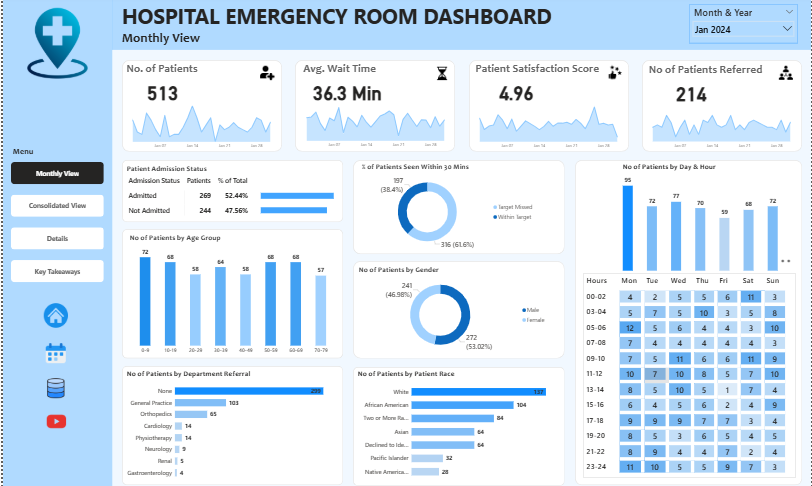

The dashboard page shown, as its layout file describes it:
{"tool":"powerbi","page":{"name":"Monthly View","canvas":[2300,1400],"ordinal":0},"visuals":[{"type":"shape","box":[338.5,171.3,455.5,261.2],"z":0},{"type":"shape","box":[1324.7,171.3,455.5,261.2],"z":1000},{"type":"shape","box":[0,0,311.3,1399.9],"z":2000},{"type":"shape","box":[831.6,171.3,455.5,261.2],"z":3000},{"type":"card","fields":{"Values":["Hospital ER_Hospital ER.No of Patients"]},"box":[374,225.7,160.9,66.9],"z":4000},{"type":"card","fields":{"Values":["Hospital ER_Hospital ER.Avg Wait Time"]},"box":[869.2,225.7,223.6,66.9],"z":5000},{"type":"card","fields":{"Values":["Avg(Hospital ER_Hospital ER.Patient Satisfaction Score)"]},"box":[1381.4,225.6,160.9,66.9],"z":6000},{"type":"shape","box":[1817.8,171.3,455.5,261.2],"z":7000},{"type":"card","fields":{"Values":["Hospital ER_Hospital ER.Measure"]},"box":[1876.7,227.6,160.9,66.9],"z":8000},{"type":"shape","box":[311.3,0,1989.1,142.1],"z":9000},{"type":"slicer","fields":{"Values":["Calendar Table.Month & Year"]},"box":[1950.8,12.2,309.8,112.1],"z":10000},{"type":"textbox","box":[339.2,171.3,227.8,56.5],"z":11000},{"type":"textbox","box":[841.3,171.3,231.1,56.5],"z":12000},{"type":"textbox","box":[1331.2,172,377.5,55.8],"z":13000},{"type":"textbox","box":[1828.2,173.4,344.8,56.4],"z":14000},{"type":"areaChart","fields":{"Category":["Calendar Table.Date.Variation.Date Hierarchy.Year","Calendar Table.Date.Variation.Date Hierarchy.Quarter","Calendar Table.Date.Variation.Date Hierarchy.Month","Calendar Table.Date.Variation.Date Hierarchy.Day"],"Y":["Hospital ER_Hospital ER.No of Patients"]},"box":[348.4,288.1,435.5,145.2],"z":15000},{"type":"areaChart","fields":{"Category":["Calendar Table.Date.Variation.Date Hierarchy.Year","Calendar Table.Date.Variation.Date Hierarchy.Quarter","Calendar Table.Date.Variation.Date Hierarchy.Month","Calendar Table.Date.Variation.Date Hierarchy.Day"],"Y":["Avg(Hospital ER_Hospital ER.Patient Waittime)"]},"box":[842.1,285.9,435.5,145.2],"z":16000},{"type":"areaChart","fields":{"Category":["Calendar Table.Date.Variation.Date Hierarchy.Year","Calendar Table.Date.Variation.Date Hierarchy.Quarter","Calendar Table.Date.Variation.Date Hierarchy.Month","Calendar Table.Date.Variation.Date Hierarchy.Day"],"Y":["Avg(Hospital ER_Hospital ER.Patient Satisfaction Score)"]},"box":[1333.4,290.4,435.5,142.9],"z":17000},{"type":"areaChart","fields":{"Category":["Calendar Table.Date.Variation.Date Hierarchy.Year","Calendar Table.Date.Variation.Date Hierarchy.Quarter","Calendar Table.Date.Variation.Date Hierarchy.Month","Calendar Table.Date.Variation.Date Hierarchy.Day"],"Y":["Hospital ER_Hospital ER.Measure"]},"box":[1827.1,288.1,435.5,145.2],"z":18000},{"type":"textbox","box":[331.7,0,1281,88.9],"z":19000},{"type":"image","box":[46.9,17.9,218.9,212.2],"z":20000},{"type":"image","box":[1222.3,183.9,52.2,48.1],"z":21000},{"type":"image","box":[724.8,183.1,52.8,51.2],"z":22000},{"type":"image","box":[2198,181.8,62.7,50],"z":23000},{"type":"image","box":[1713.3,179.7,58.5,52.2],"z":24000},{"type":"shape","box":[338.9,455,629.1,177.3],"z":25000},{"type":"shape","box":[994.7,455,602.5,268.3],"z":26000},{"type":"shape","box":[1626.9,455,646.4,925.6],"z":27000},{"type":"shape","box":[996.2,743.7,602.5,277.7],"z":28000},{"type":"donutChart","title":"% of Patients Seen Within 30 Mins","fields":{"Y":["Hospital ER_Hospital ER.No of Patients"],"Category":["Hospital ER_Hospital ER.Waittime Status"]},"box":[1016.6,461,504.4,257.6],"z":29000},{"type":"donutChart","title":"No of Patients by Gender","fields":{"Y":["Hospital ER_Hospital ER.No of Patients"],"Category":["Hospital ER_Hospital ER.Full Gender"]},"box":[1007.2,753.1,547.5,257.3],"z":30000},{"type":"shape","box":[338.9,652.7,629.1,368.7],"z":31000},{"type":"pivotTable","title":"Patient Admission Status","fields":{"Rows":["Hospital ER_Hospital ER.Admission Status"],"Values":["Hospital ER_Hospital ER.No of Patients1","Hospital ER_Hospital ER.No of Patients"]},"box":[347.9,465.5,610,158.3],"z":32000},{"type":"barChart","fields":{"Category":["Hospital ER_Hospital ER.Admission Status"],"Y":["Hospital ER_Hospital ER.No of Patients"]},"box":[729.5,514.6,241.6,120.8],"z":33000},{"type":"clusteredColumnChart","fields":{"Category":["Hospital ER_Hospital ER.Age Group"],"Y":["Hospital ER_Hospital ER.No of Patients"]},"box":[354.6,662.7,599.3,354.6],"z":34000},{"type":"shape","box":[337.3,1041.7,629.1,338.9],"z":35000},{"type":"clusteredBarChart","fields":{"Category":["Hospital ER_Hospital ER.Department Referral"],"Y":["Hospital ER_Hospital ER.No of Patients"]},"box":[348.3,1049.6,602.5,324.8],"z":36000},{"type":"shape","box":[996.5,1043,602.2,338.4],"z":37000},{"type":"clusteredBarChart","fields":{"Y":["Hospital ER_Hospital ER.No of Patients"],"Category":["Hospital ER_Hospital ER.Patient Race"]},"box":[1005.8,1049.2,578.9,324.4],"z":38000},{"type":"pivotTable","fields":{"Columns":["Calendar Table.Day Name"],"Rows":["Hospital ER_Hospital ER.Waittime Interval"],"Values":["Hospital ER_Hospital ER.No of Patients"]},"box":[1649.4,776.5,606.9,583.6],"z":39000},{"type":"clusteredColumnChart","title":"No of Patients by Day & Hour","fields":{"Category":["Calendar Table.Day Name"],"Y":["Hospital ER_Hospital ER.No of Patients"]},"box":[1758.7,461.3,453.4,315.3],"z":40000},{"type":"textbox","box":[333.7,79.2,411.3,59],"z":41000},{"type":"pageNavigator","box":[24.2,462.3,264.1,343.1],"z":42000},{"type":"textbox","box":[24.2,409.1,99.9,48.3],"z":43000},{"type":"image","box":[110.1,854.1,79.5,87.7],"z":47000},{"type":"image","box":[116.2,966.2,67.3,75.4],"z":48000},{"type":"image","box":[116.2,1068.1,67.3,75.4],"z":49000},{"type":"image","box":[118.2,1166,65.2,65.2],"z":50000}]}

Visuals, with their boxes in screenshot pixels (x1, y1, x2, y2), scaled from the page's 2300x1400 canvas onto the 812x486 screenshot:
shape: rect(120, 59, 280, 150)
shape: rect(468, 59, 628, 150)
shape: rect(0, 0, 110, 485)
shape: rect(294, 59, 454, 150)
card - Hospital ER_Hospital ER.No of Patients: rect(132, 78, 189, 102)
card - Hospital ER_Hospital ER.Avg Wait Time: rect(307, 78, 386, 102)
card - Avg(Hospital ER_Hospital ER.Patient Satisfaction Score): rect(488, 78, 544, 102)
shape: rect(642, 59, 803, 150)
card - Hospital ER_Hospital ER.Measure: rect(663, 79, 719, 102)
shape: rect(110, 0, 811, 49)
slicer - Calendar Table.Month & Year: rect(689, 4, 798, 43)
textbox: rect(120, 59, 200, 79)
textbox: rect(297, 59, 379, 79)
textbox: rect(470, 60, 603, 79)
textbox: rect(645, 60, 767, 80)
areaChart - Calendar Table.Date.Variation.Date Hierarchy.Year x Calendar Table.Date.Variation.Date Hierarchy.Quarter: rect(123, 100, 277, 150)
areaChart - Calendar Table.Date.Variation.Date Hierarchy.Year x Calendar Table.Date.Variation.Date Hierarchy.Quarter: rect(297, 99, 451, 150)
areaChart - Calendar Table.Date.Variation.Date Hierarchy.Year x Calendar Table.Date.Variation.Date Hierarchy.Quarter: rect(471, 101, 624, 150)
areaChart - Calendar Table.Date.Variation.Date Hierarchy.Year x Calendar Table.Date.Variation.Date Hierarchy.Quarter: rect(645, 100, 799, 150)
textbox: rect(117, 0, 569, 31)
image: rect(17, 6, 94, 80)
image: rect(432, 64, 450, 81)
image: rect(256, 64, 275, 81)
image: rect(776, 63, 798, 80)
image: rect(605, 62, 626, 81)
shape: rect(120, 158, 342, 219)
shape: rect(351, 158, 564, 251)
shape: rect(574, 158, 803, 479)
shape: rect(352, 258, 564, 355)
"% of Patients Seen Within 30 Mins" donutChart: rect(359, 160, 537, 249)
"No of Patients by Gender" donutChart: rect(356, 261, 549, 351)
shape: rect(120, 227, 342, 355)
"Patient Admission Status" pivotTable: rect(123, 162, 338, 217)
barChart - Hospital ER_Hospital ER.Admission Status x Hospital ER_Hospital ER.No of Patients: rect(258, 179, 343, 221)
clusteredColumnChart - Hospital ER_Hospital ER.Age Group x Hospital ER_Hospital ER.No of Patients: rect(125, 230, 337, 353)
shape: rect(119, 362, 341, 479)
clusteredBarChart - Hospital ER_Hospital ER.Department Referral x Hospital ER_Hospital ER.No of Patients: rect(123, 364, 336, 477)
shape: rect(352, 362, 564, 480)
clusteredBarChart - Hospital ER_Hospital ER.No of Patients x Hospital ER_Hospital ER.Patient Race: rect(355, 364, 559, 477)
pivotTable - Calendar Table.Day Name x Hospital ER_Hospital ER.Waittime Interval: rect(582, 270, 797, 472)
"No of Patients by Day & Hour" clusteredColumnChart: rect(621, 160, 781, 270)
textbox: rect(118, 27, 263, 48)
pageNavigator: rect(9, 160, 102, 280)
textbox: rect(9, 142, 44, 159)
image: rect(39, 296, 67, 327)
image: rect(41, 335, 65, 362)
image: rect(41, 371, 65, 397)
image: rect(42, 405, 65, 427)
